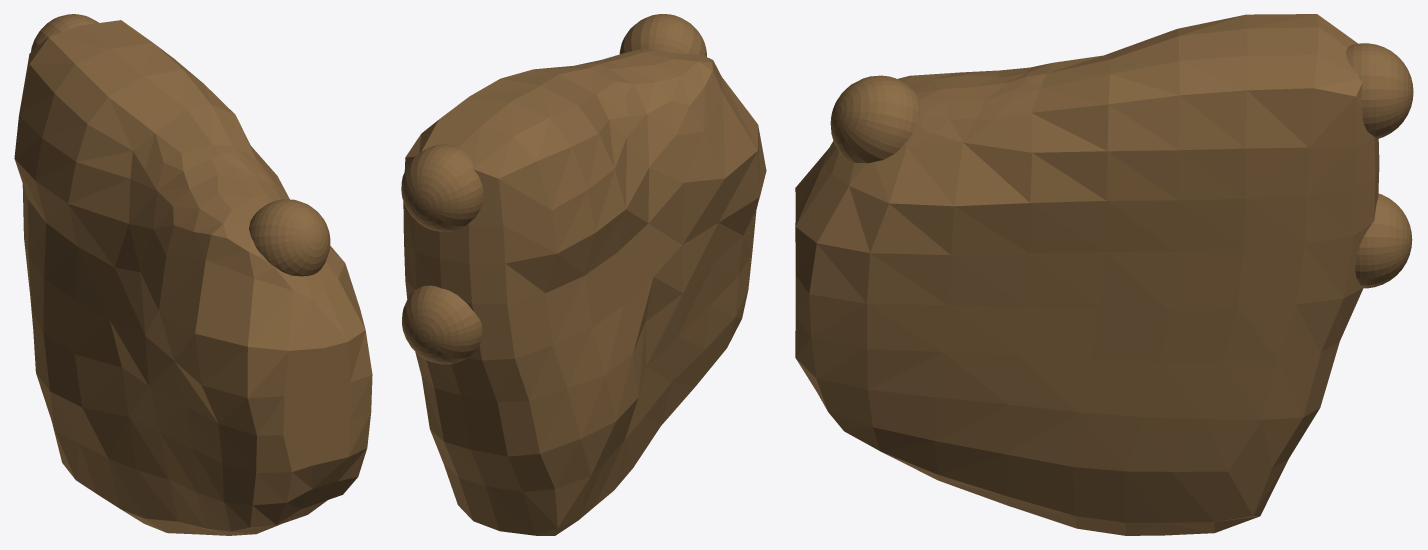
File: RWy_joint_visu.dae
The picture shows the model from 3 angles, left to right: view 1: azimuth 30°, elevation 25°; view 2: azimuth 150°, elevation 25°; view 3: azimuth 270°, elevation 25°; orthographic projection. The views are drawn at different scales.
Parts seen in each view (by area): view 1: node; view 2: node; view 3: node.
Part boxes in pixels (x1,y1,x2,y2): node: (14, 14, 372, 535); node: (401, 14, 766, 535); node: (795, 14, 1413, 535).
Size of the model in its own units: 0.0181 by 0.0453 by 0.0514.
